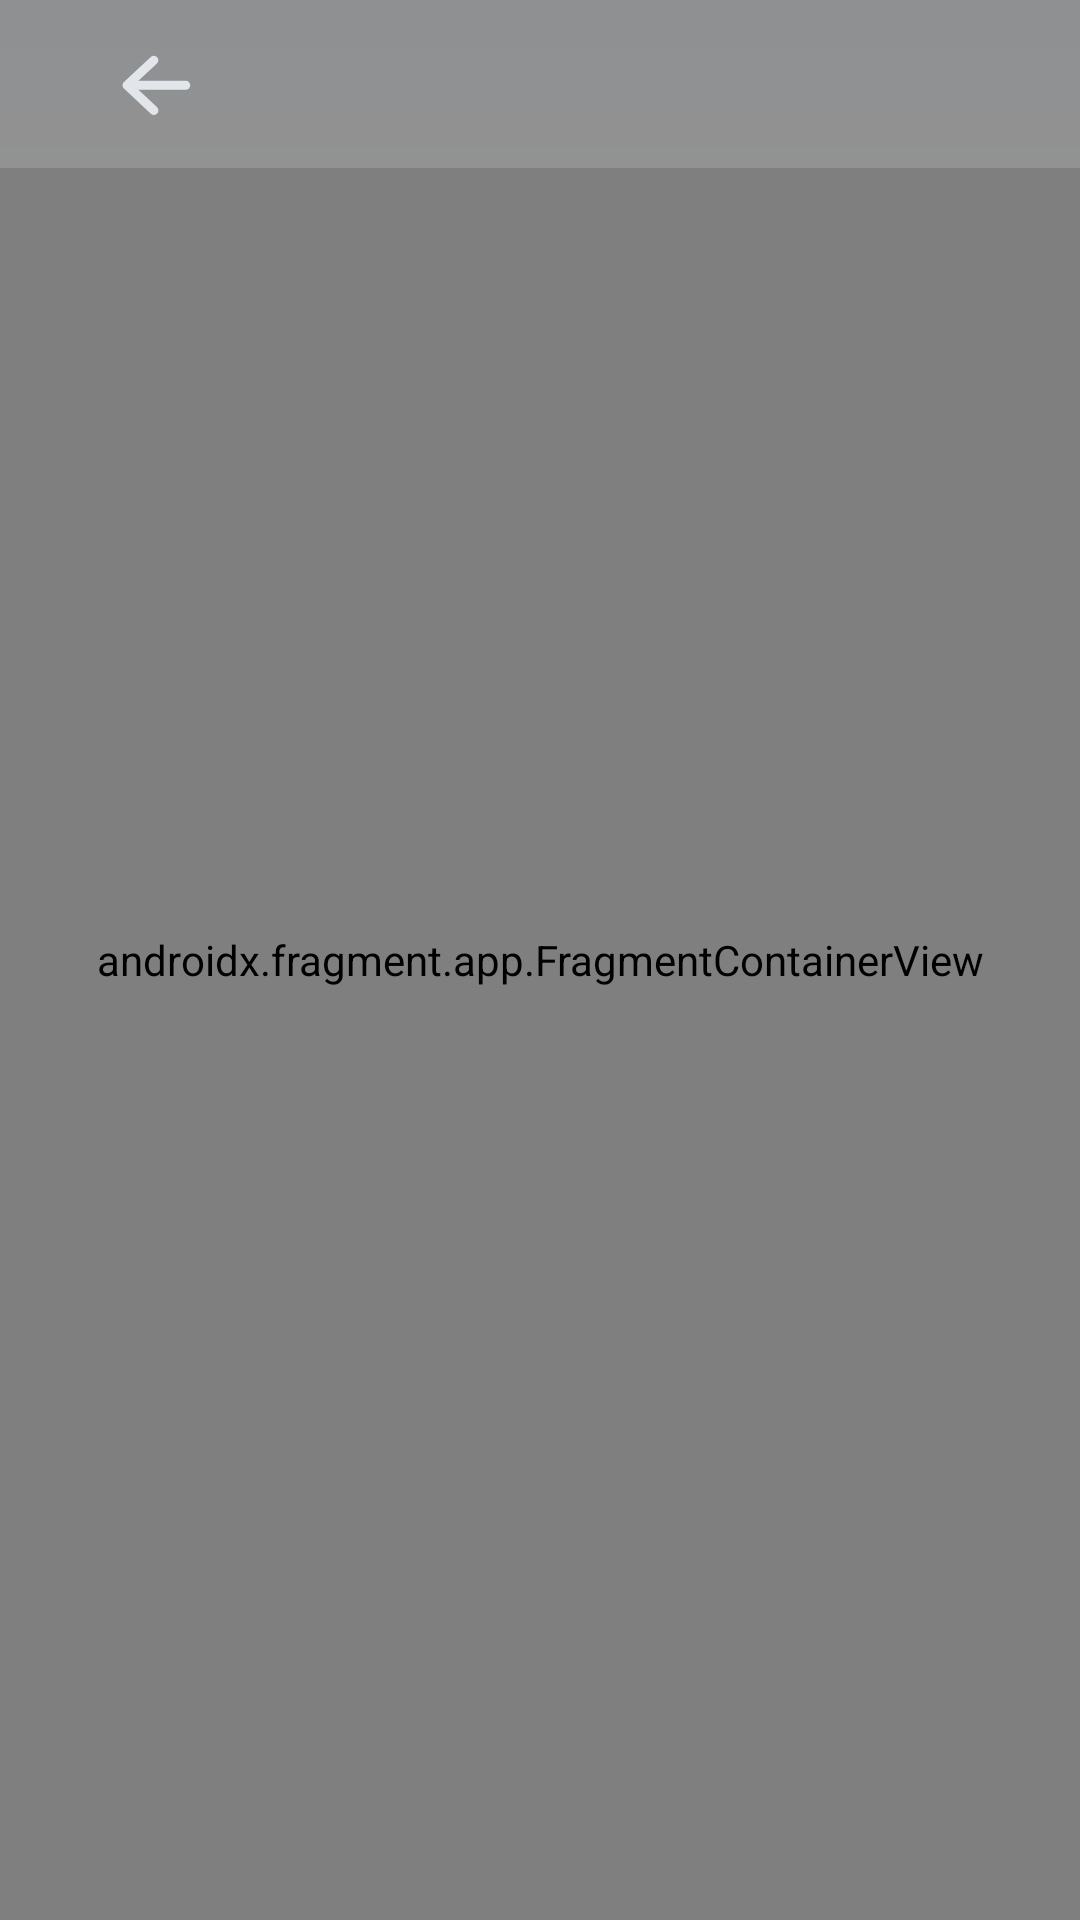

Screen size 1080 x 1920. Icon name, then its center in pixels as (x=x, y=y):
back arrow: (x=156, y=85)
